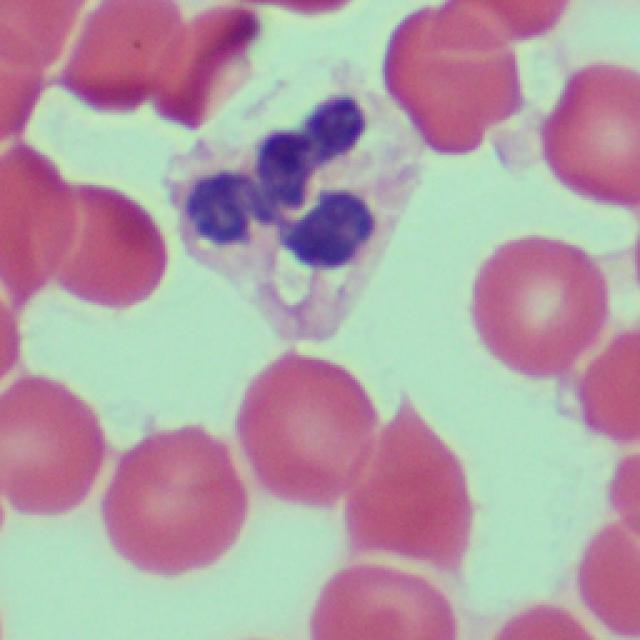RBC: (329, 408, 472, 625), (233, 348, 380, 516), (94, 412, 237, 578), (467, 230, 610, 382), (381, 0, 511, 152), (31, 0, 205, 111), (30, 177, 166, 311), (0, 362, 104, 521), (534, 62, 637, 199), (2, 121, 69, 305), (574, 517, 640, 634), (572, 322, 640, 432), (449, 0, 579, 44)
WBC: (176, 92, 438, 344)
